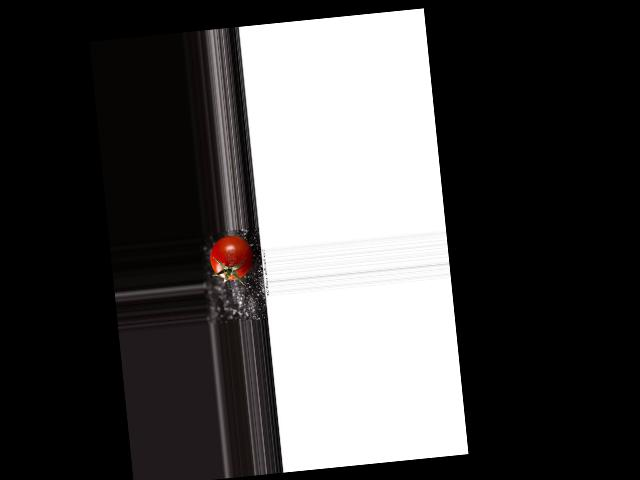tomato: (208, 234, 254, 282)
